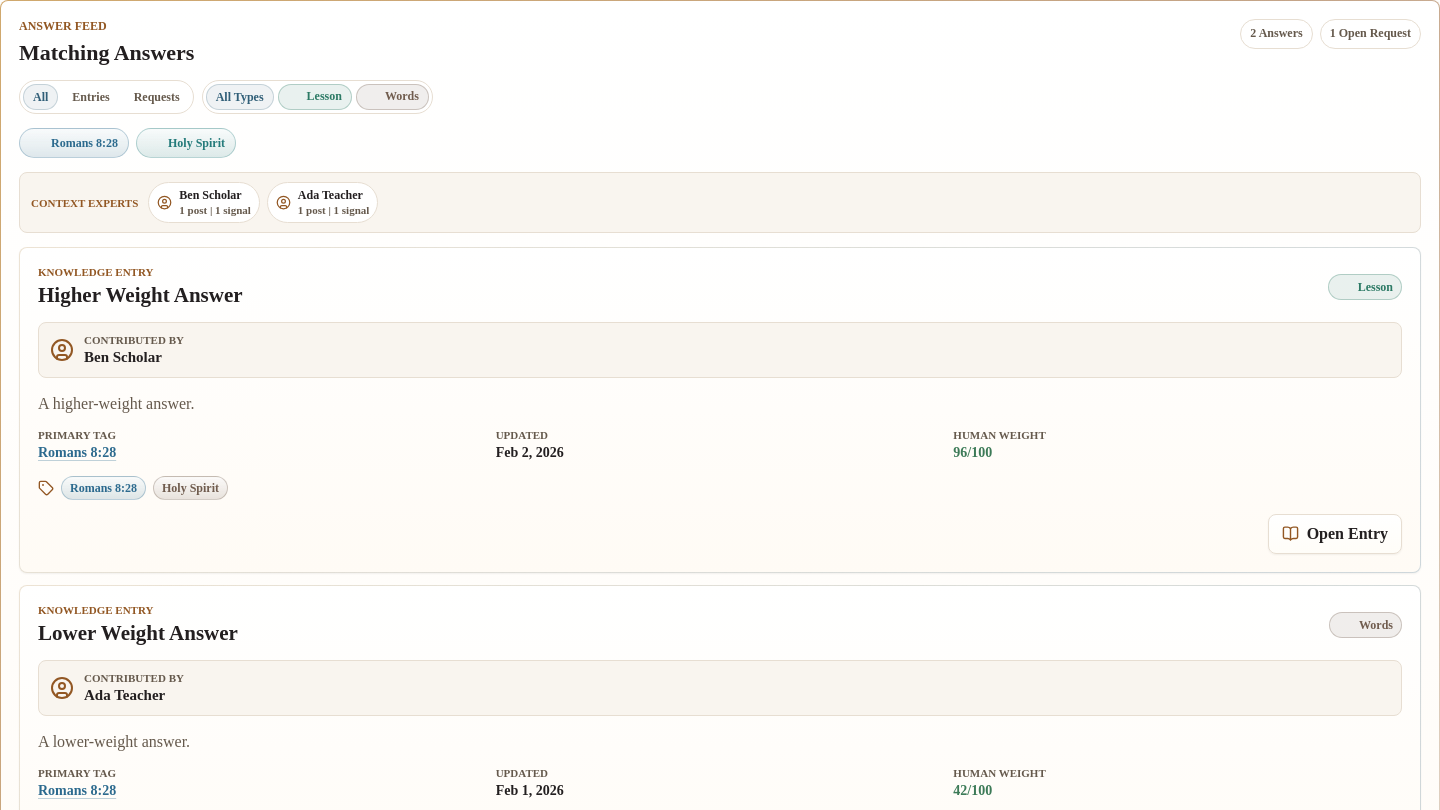
Scenario: AnswerFeed › narrows visible cards when feed controls are selected
This screenshot has width=1440, height=810.
Click the button "Lesson": (315, 97) [278,84,352,110]
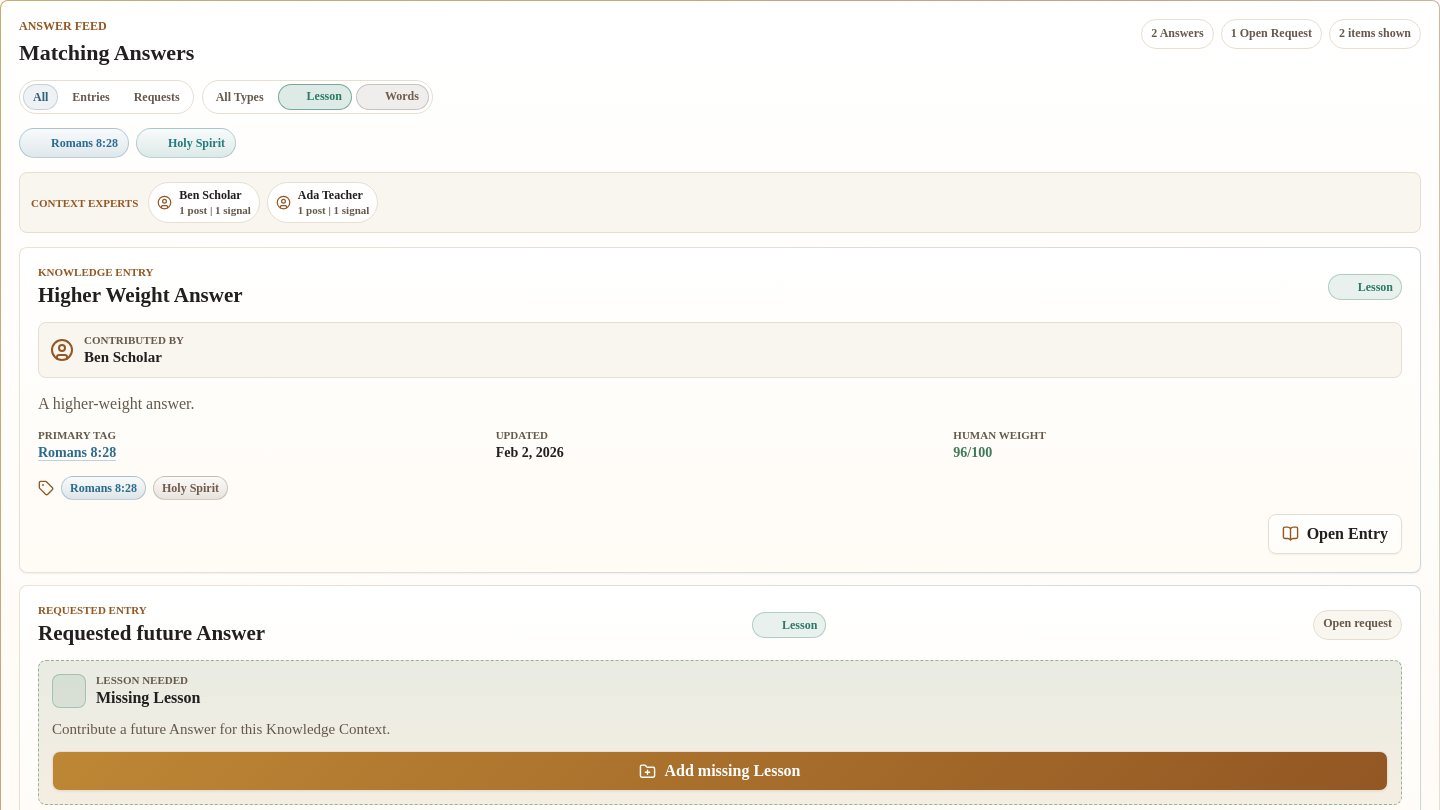
Expected: the text "Higher Weight Answer" is shown, [38,283,243,307]
Expected: the text "Lower Weight Answer" is gone
Click the button "Requests": (157, 97) [124,84,190,110]
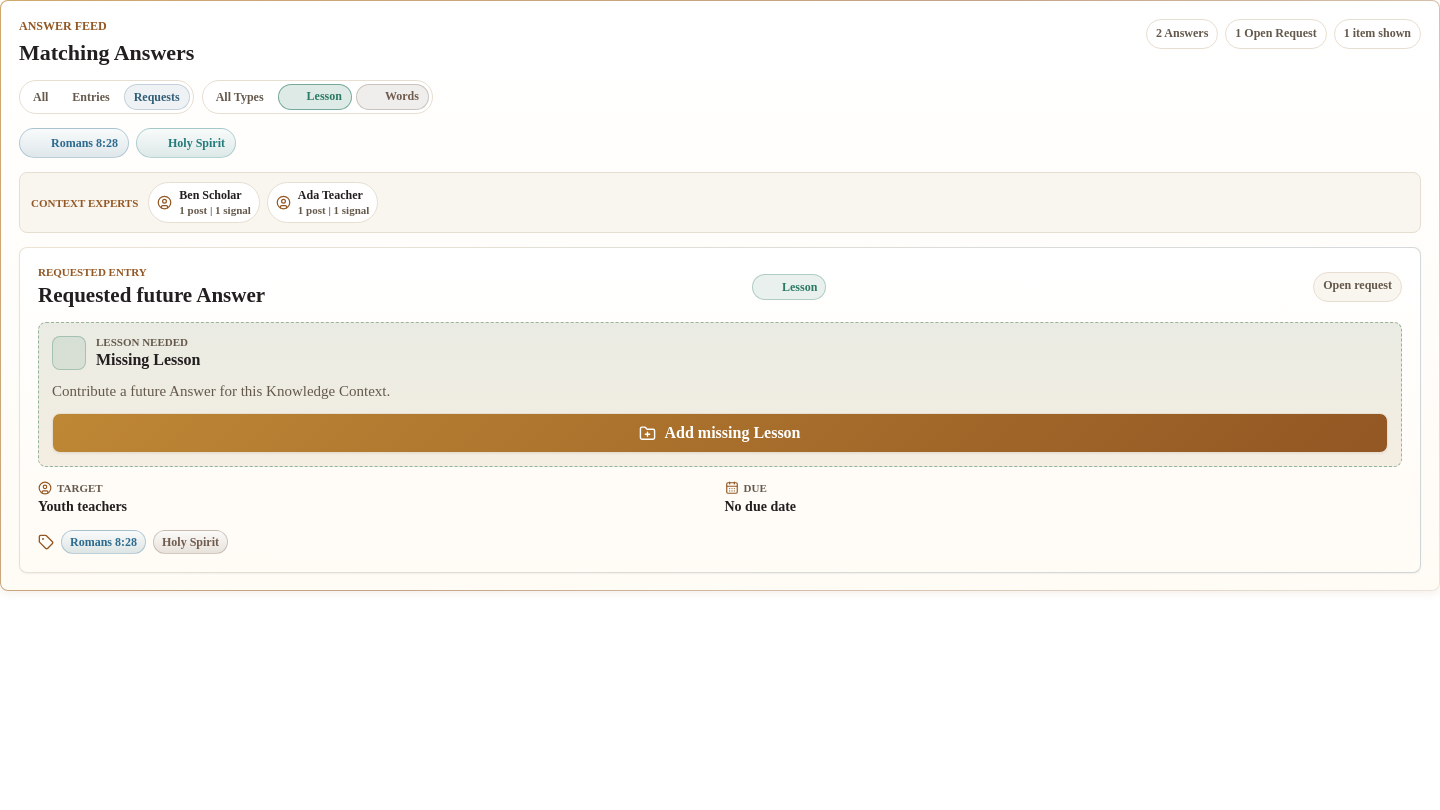
Expected: the text "Requested future Answer" is shown, [38,283,265,307]
Expected: the text "Higher Weight Answer" is gone
